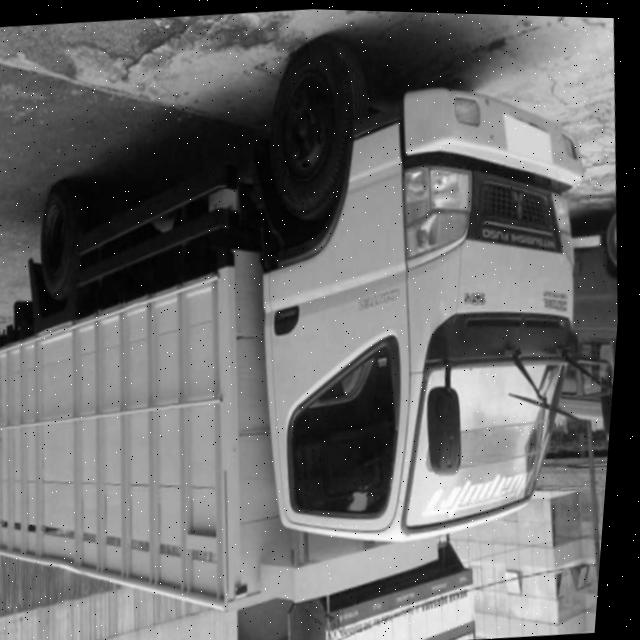truck: (206, 47, 639, 621)
